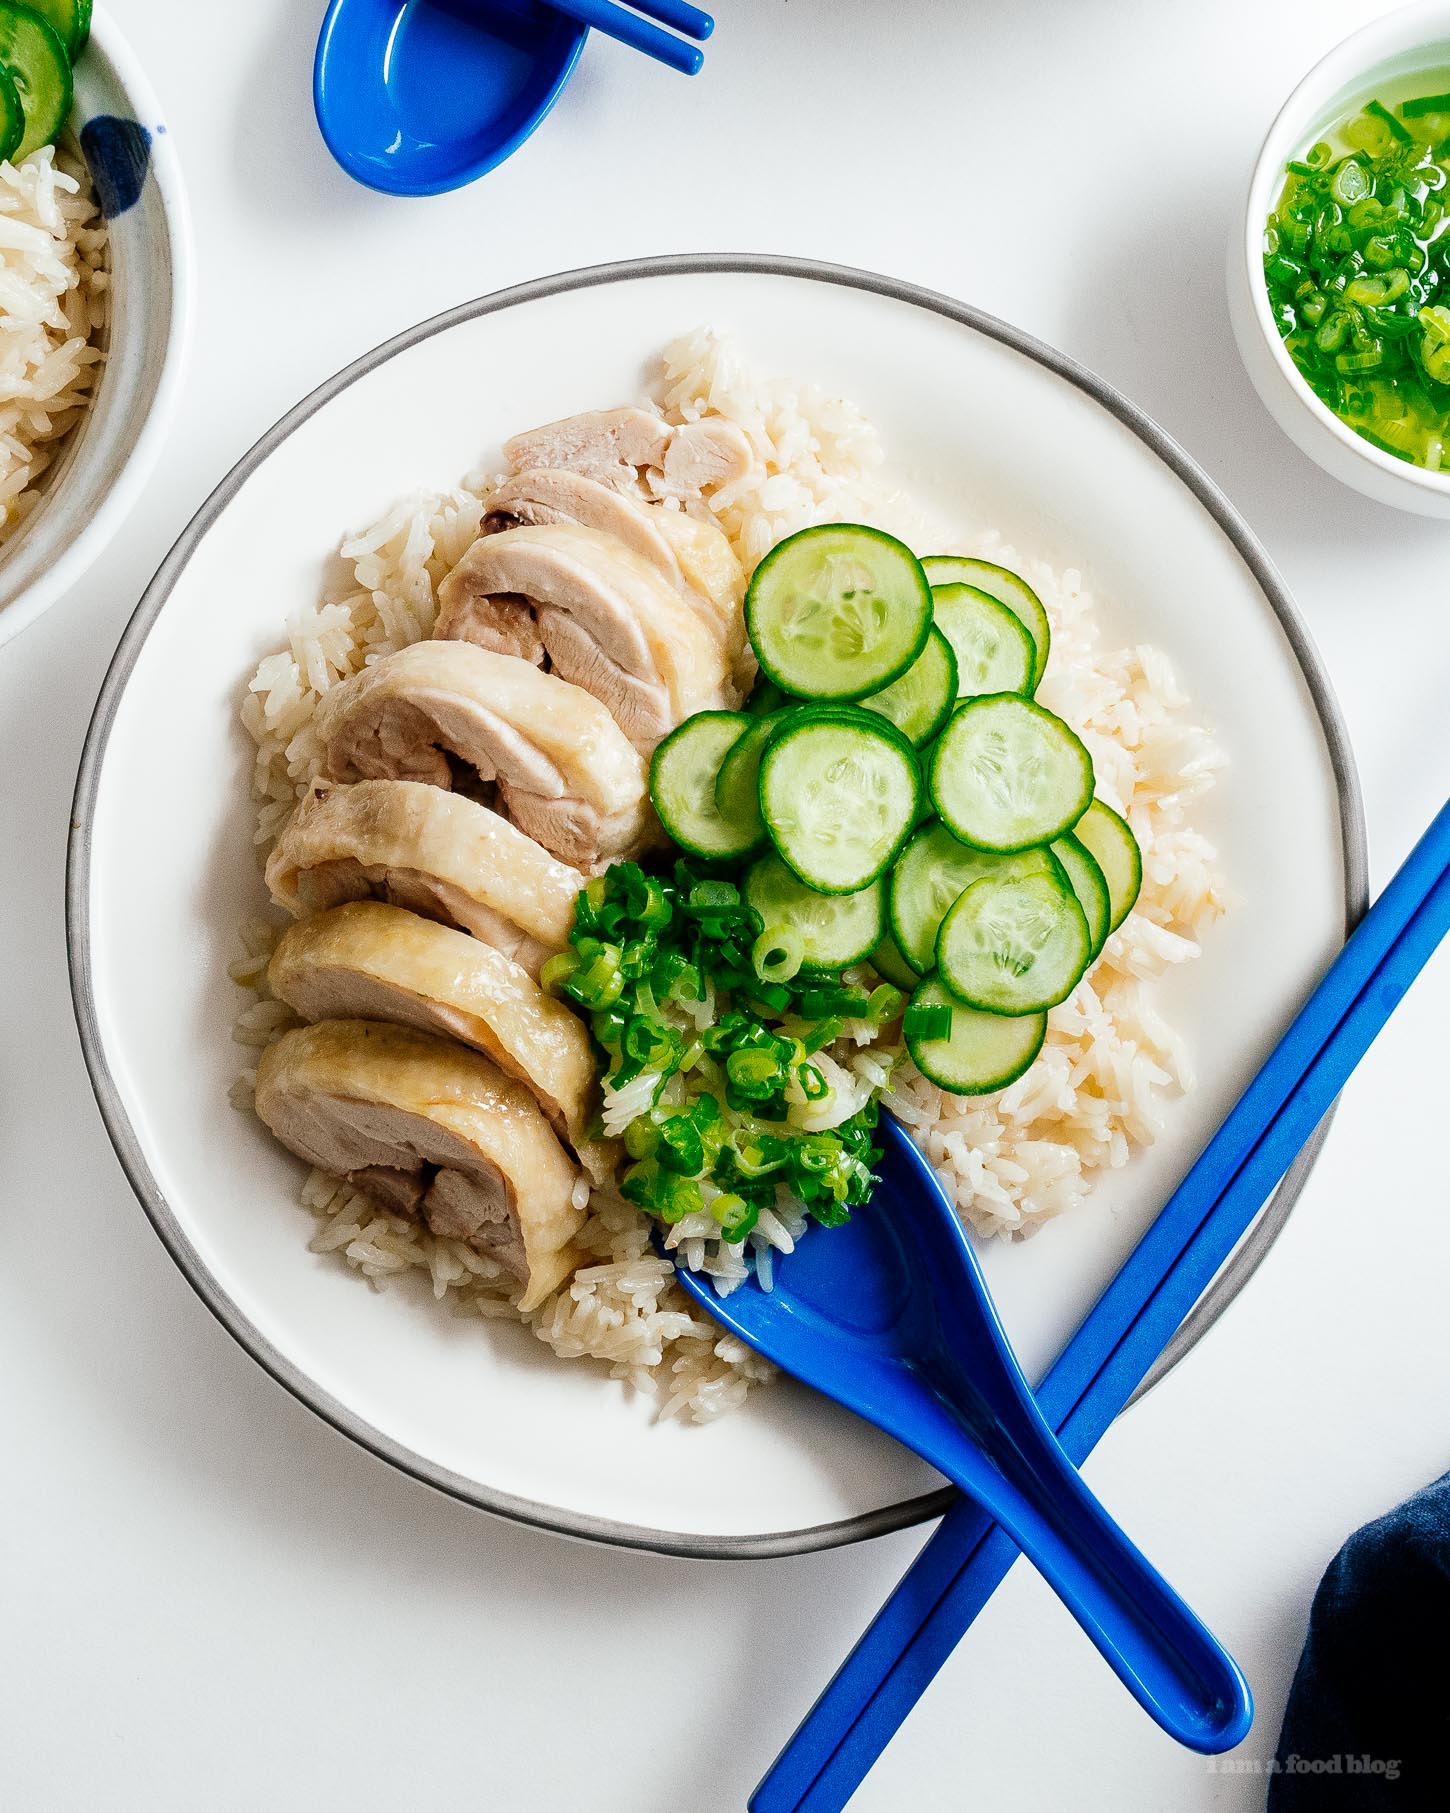Steamed Chicken Rice: (197, 312, 1247, 1390)
